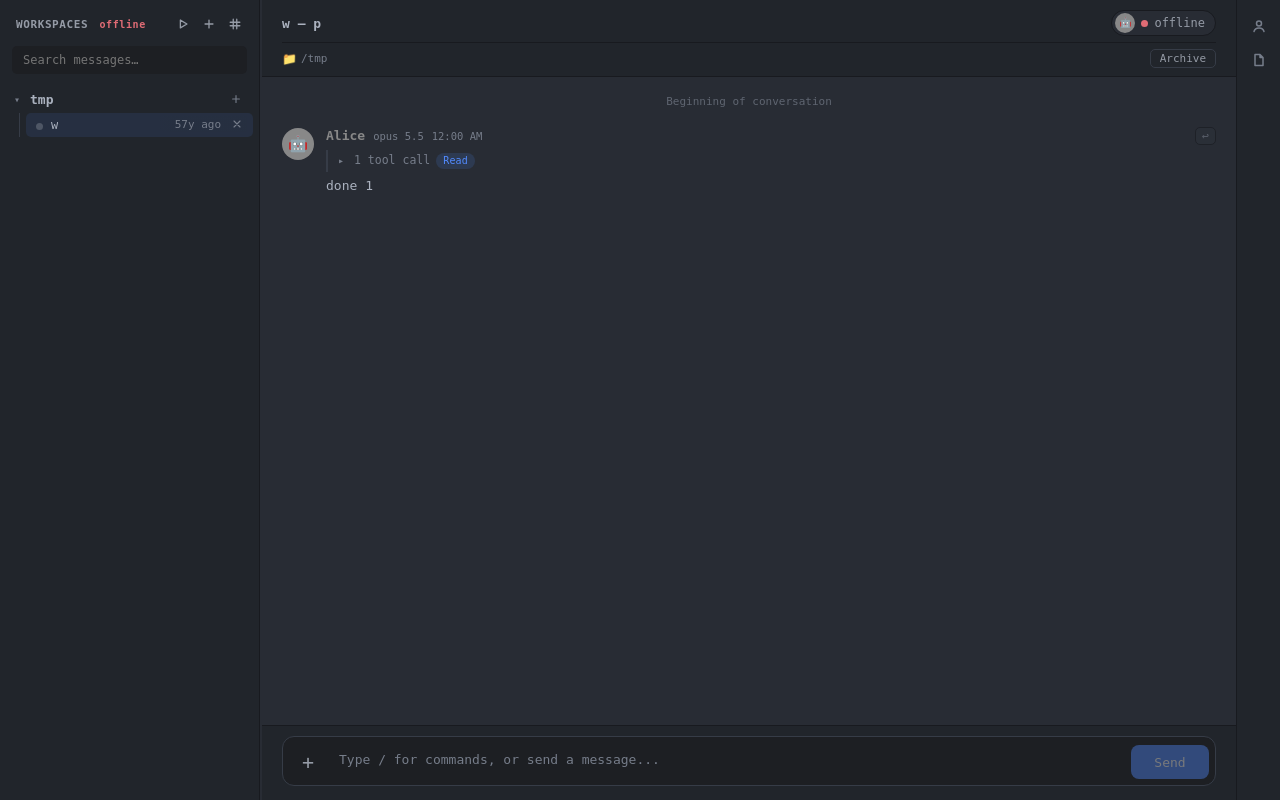
it: composer › keeps the draft when the message could not be sent
Type "a long prompt" into the text box with placeholder "Type / for commands, or send a message...".
click(728, 761); type("a long prompt")  # box [333, 743, 1123, 779]
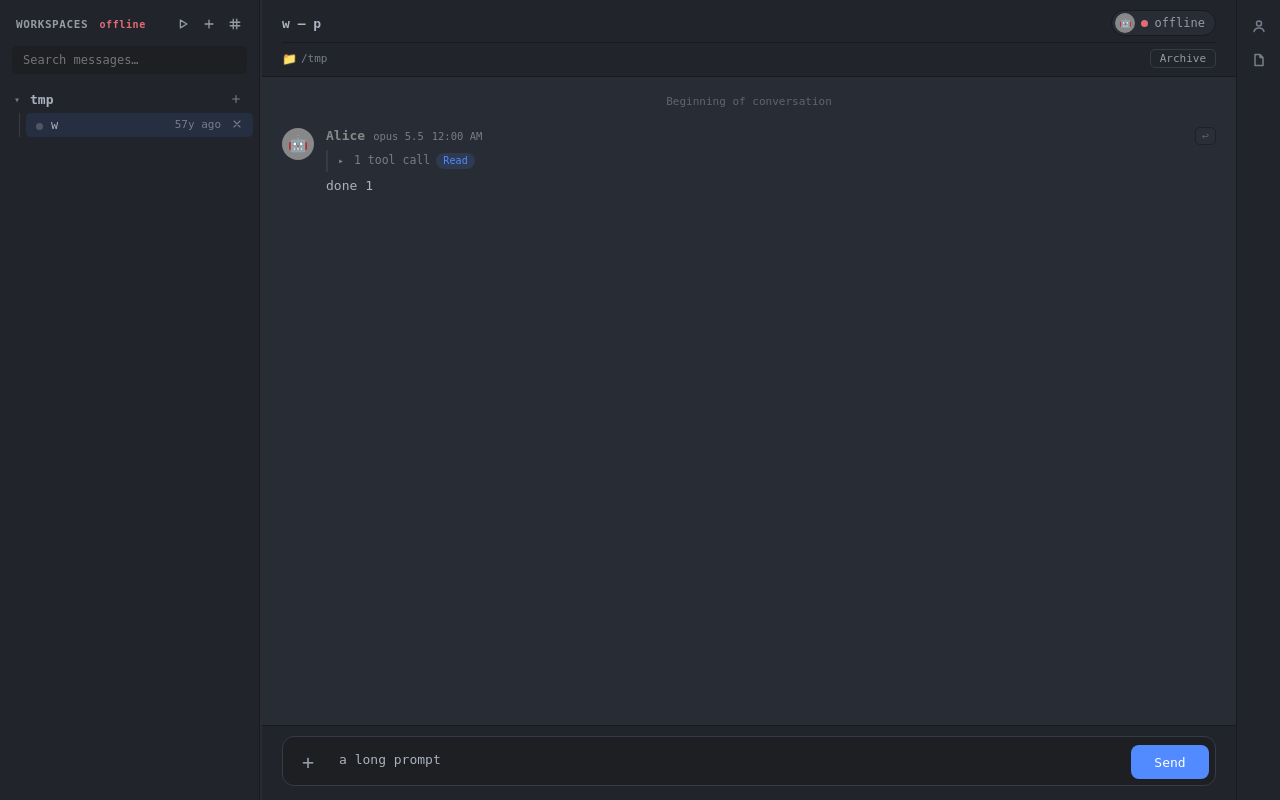
Press Enter in the text box, box [333, 743, 1123, 779]
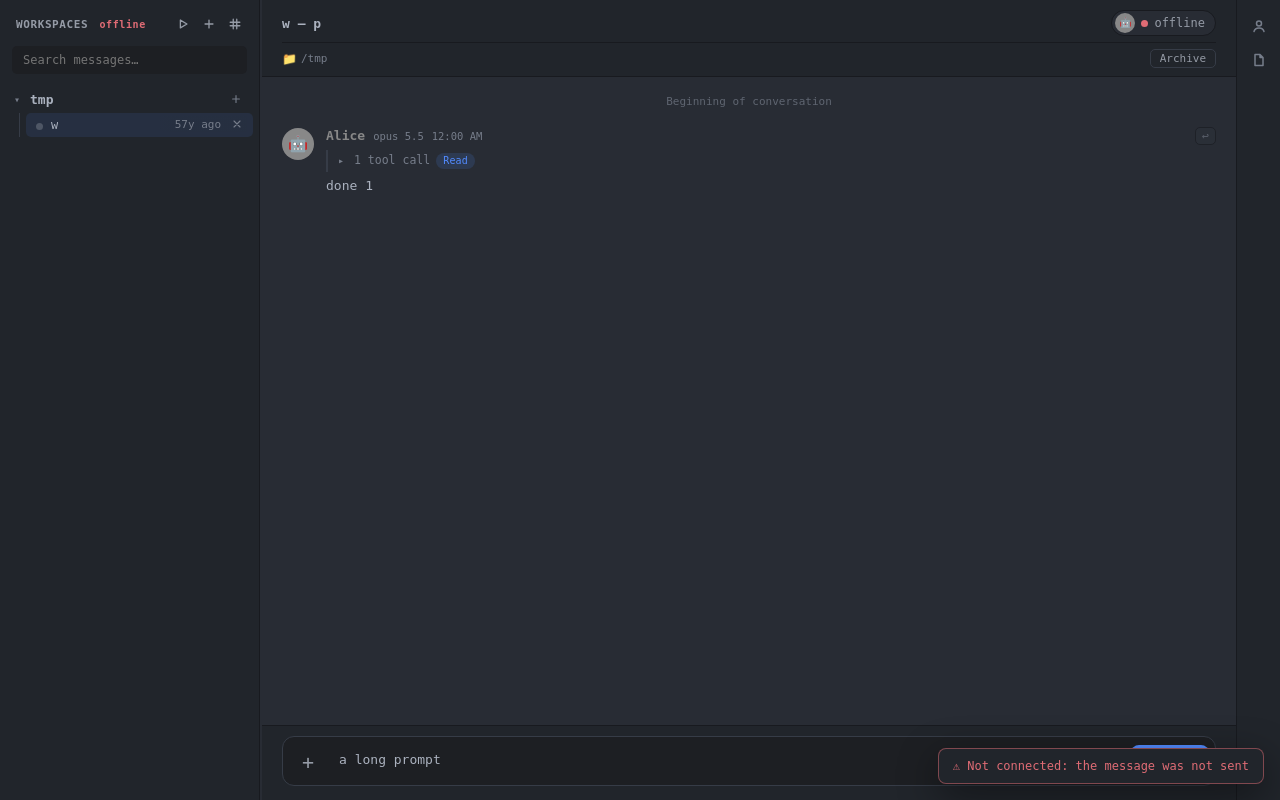
Result: the text with class "error-toast" shows "Not connected" at [967, 759, 1249, 773]
